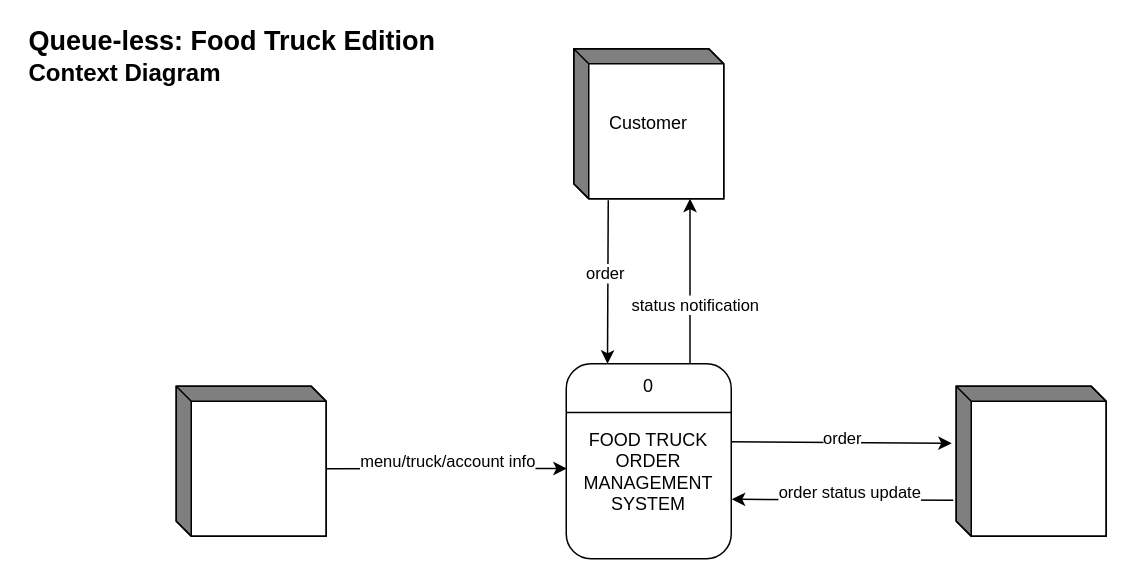
Some shapes in this 1133 by 585 pixel diagram are drawn without their labels. Here are the shapes that lost their labels. From the top down, the centre of each, then its label:
(250,460): Food Truck Manager
(1030,460): Food Truck
